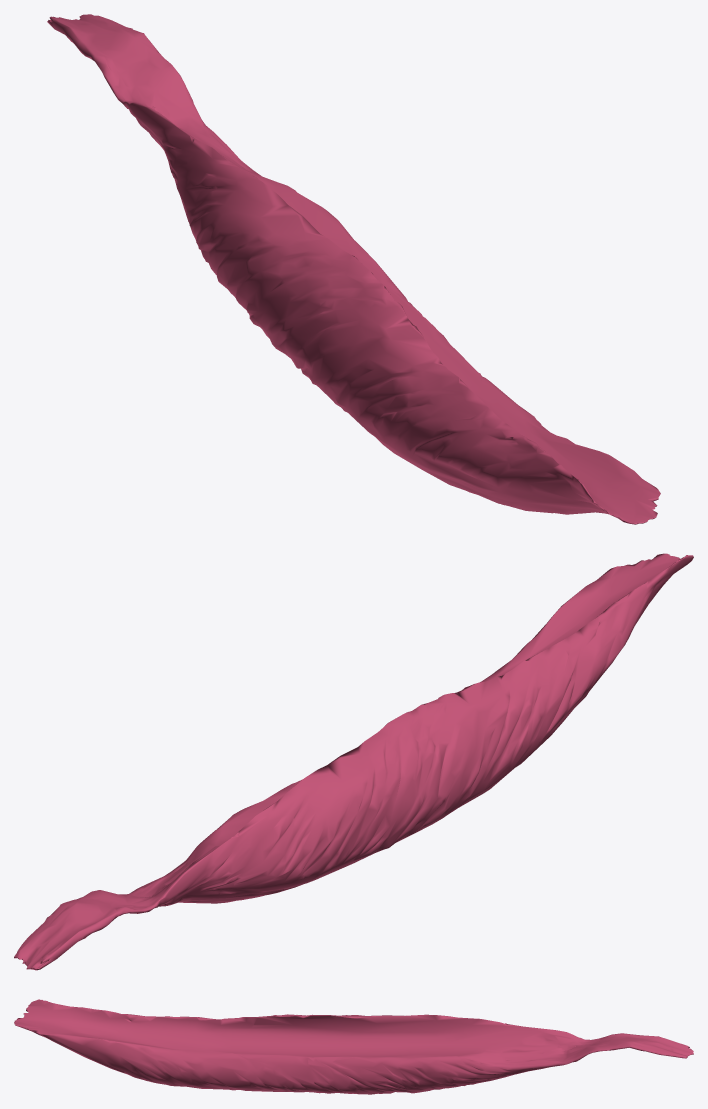
3 renders of one model, top to bottom at view 1: azimuth 30°, elevation 25°; view 2: azimuth 150°, elevation 25°; view 3: azimuth 270°, elevation 25°, orthographic. The views are drawn at different scales.
Parts seen in each view (by area): view 1: 右侧股中间肌; view 2: 右侧股中间肌; view 3: 右侧股中间肌.
Part boxes in pixels (<box>): 右侧股中间肌: <box>47,14,660,524</box>; 右侧股中间肌: <box>14,553,693,970</box>; 右侧股中间肌: <box>14,999,693,1094</box>.
Bounding box in the file's own units: 0.0834 × 0.0704 × 0.6017.
